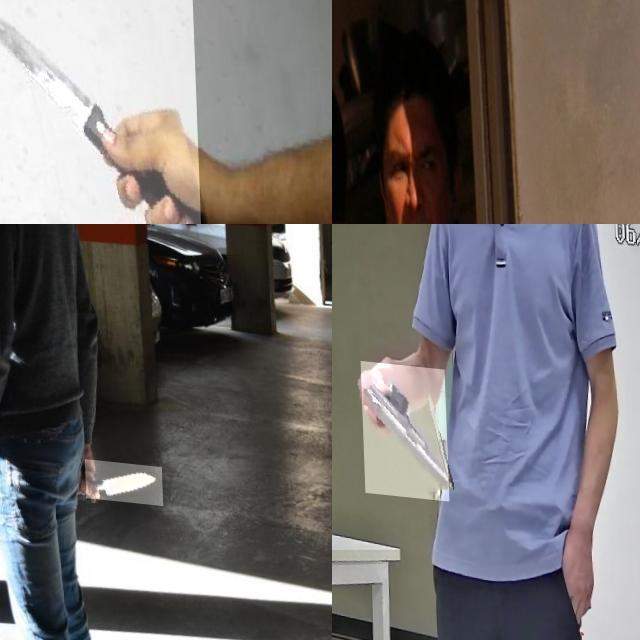-: (0, 0, 200, 224), (82, 456, 160, 500)
gun-knife-thesis - v11 Yolov5 augmented: (359, 358, 446, 497)
